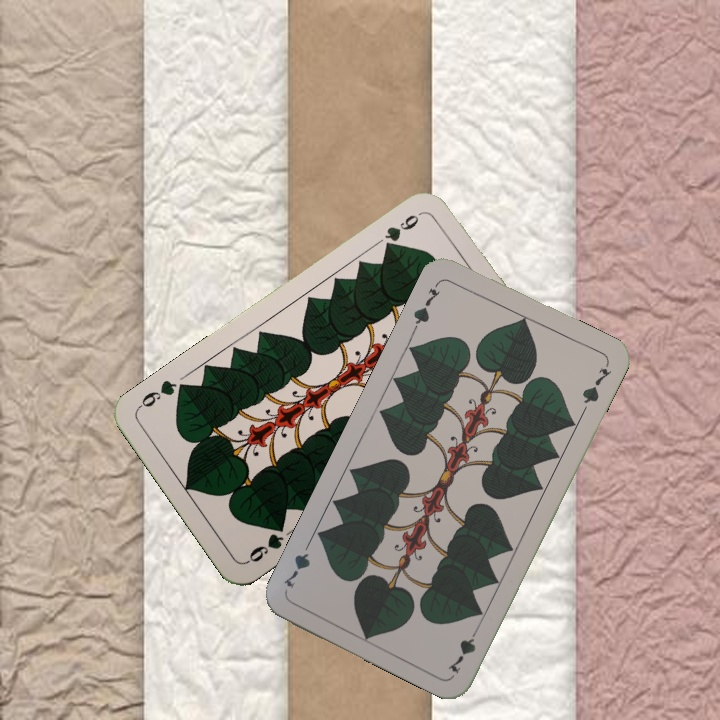G7: (443, 621, 483, 676), (409, 278, 443, 333)
G9: (242, 518, 288, 566), (380, 207, 425, 253)
